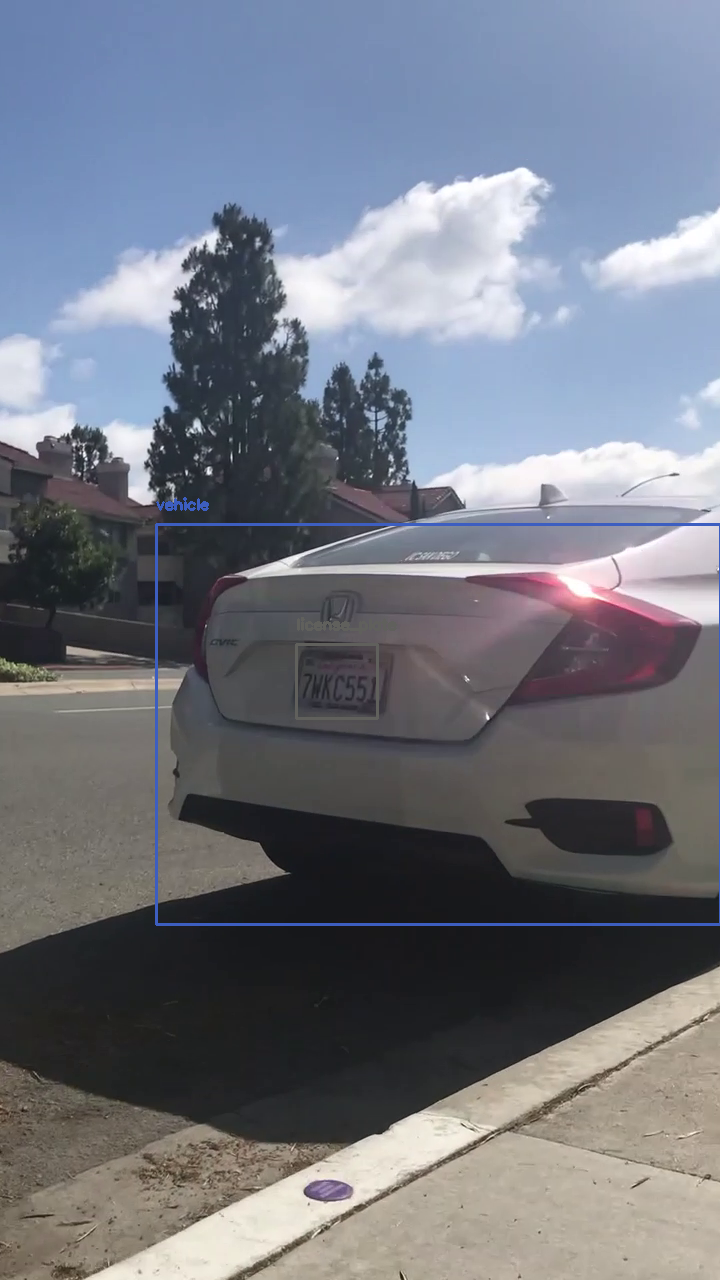license_plate: (296, 644, 377, 718)
vehicle: (156, 524, 720, 924)
